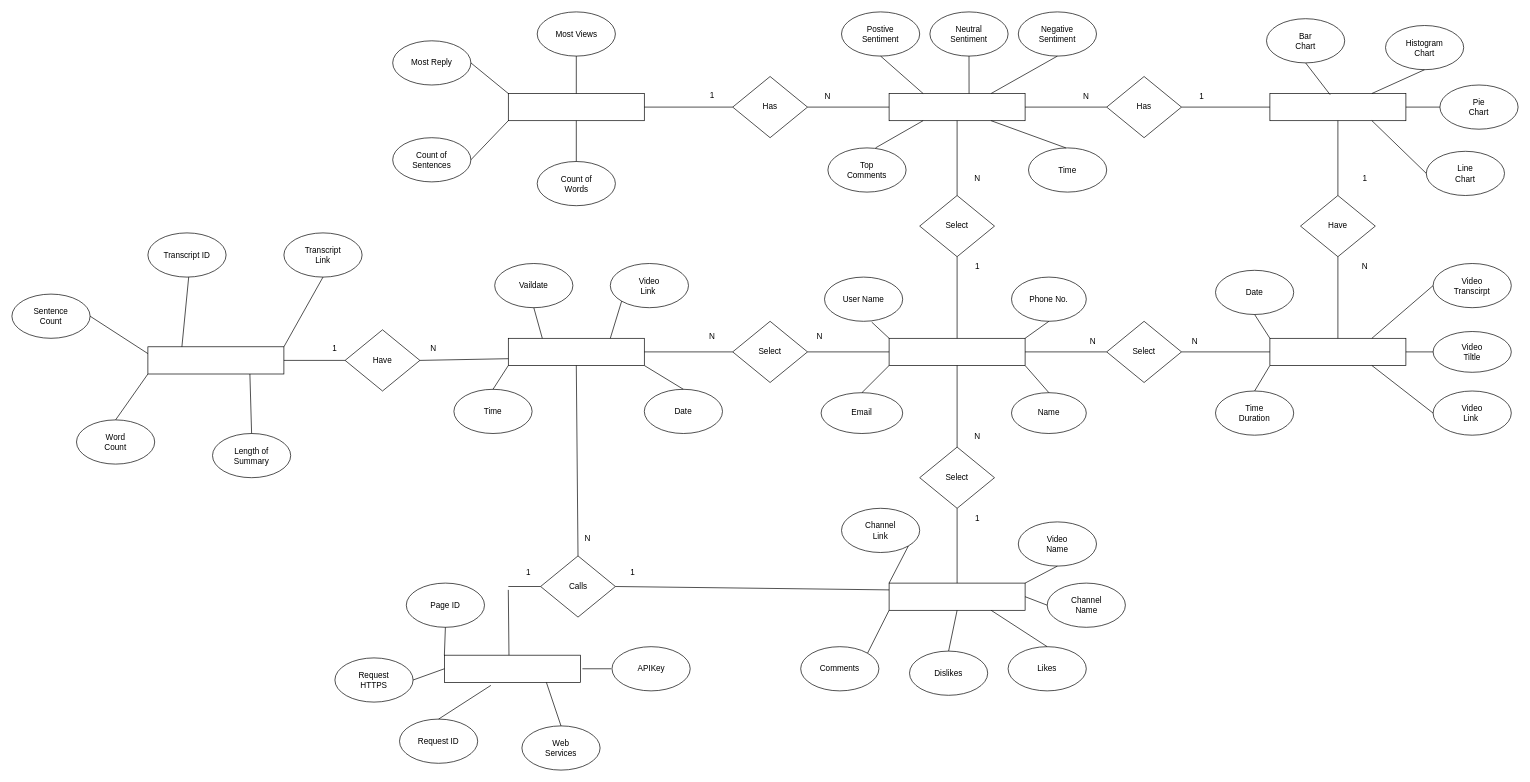
The diagram is 1530 pixels wide and 782 high, and some of its shapes have lost their labels. The shapes that lost their labels are listed below. From the top down, each one's box as (x1, y1, x2, y2) in pixels, then its label:
(508, 93, 644, 121): WordCloud
(888, 93, 1025, 121): Sentiment Analysis
(1269, 93, 1406, 121): Graphs
(147, 346, 284, 374): Transcript
(508, 338, 644, 366): Video Transcript
(888, 338, 1025, 366): User
(1269, 338, 1406, 366): Video Summary
(888, 582, 1025, 610): Video Analysis
(444, 654, 580, 682): YouTube APIs
